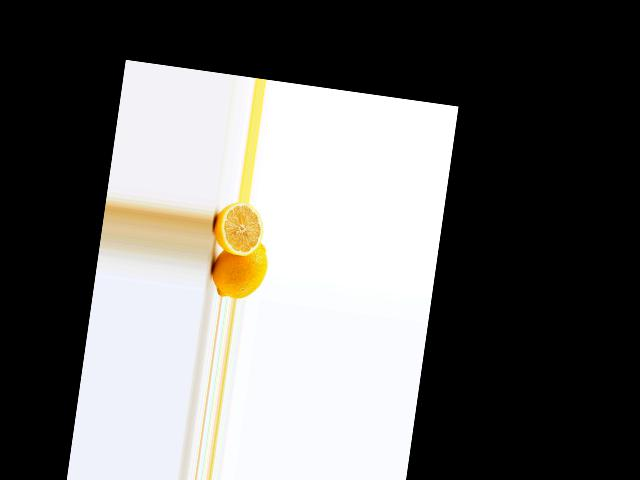lemon: (205, 235, 271, 300)
